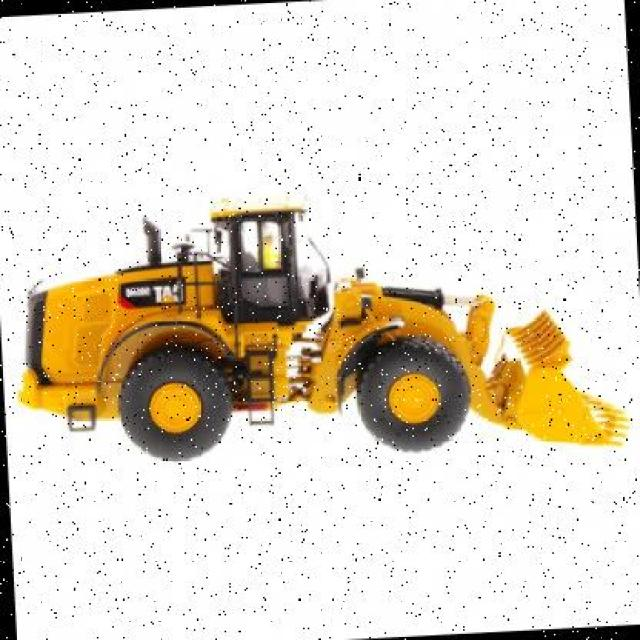buldozerpayloadergrader: (0, 184, 628, 476)
